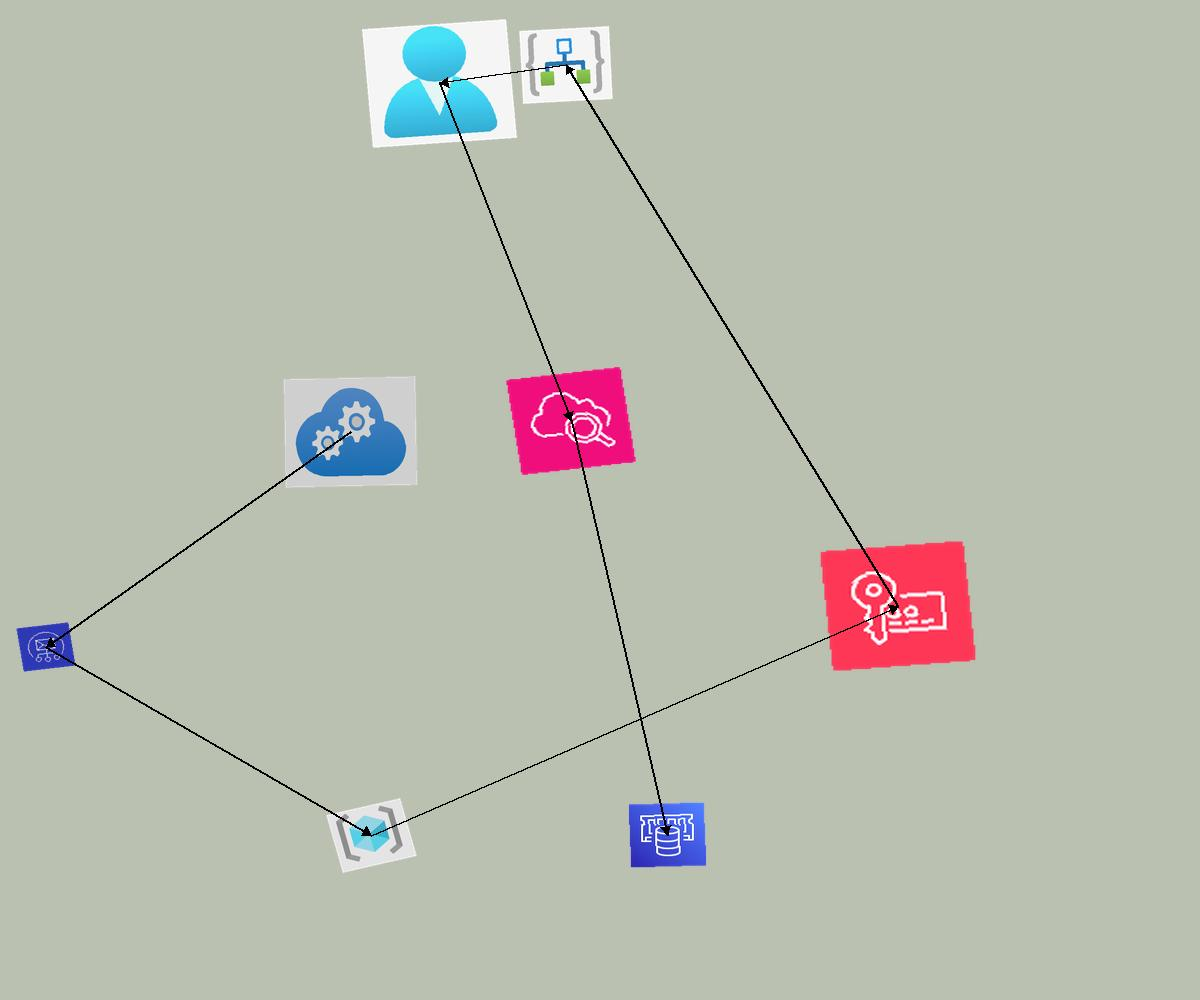AWS-CloudWatch: (505, 366, 637, 476)
AWS-ElastiCache: (628, 802, 707, 868)
AWS-Key-Management-Service: (819, 540, 977, 672)
AWS-Simple-Email-Service: (16, 622, 76, 672)
Azure_cloud_services: (283, 376, 418, 488)
Azure_integration-204-Logic-Apps: (519, 26, 613, 104)
Azure_resource_group: (326, 798, 417, 873)
Azure_users: (362, 19, 517, 148)
